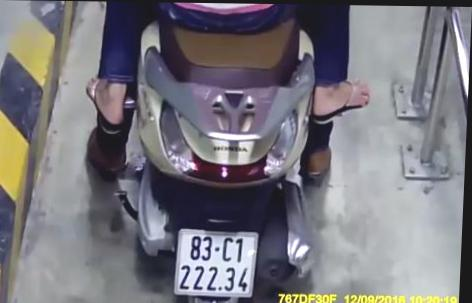License_Plate: (166, 222, 267, 301)
